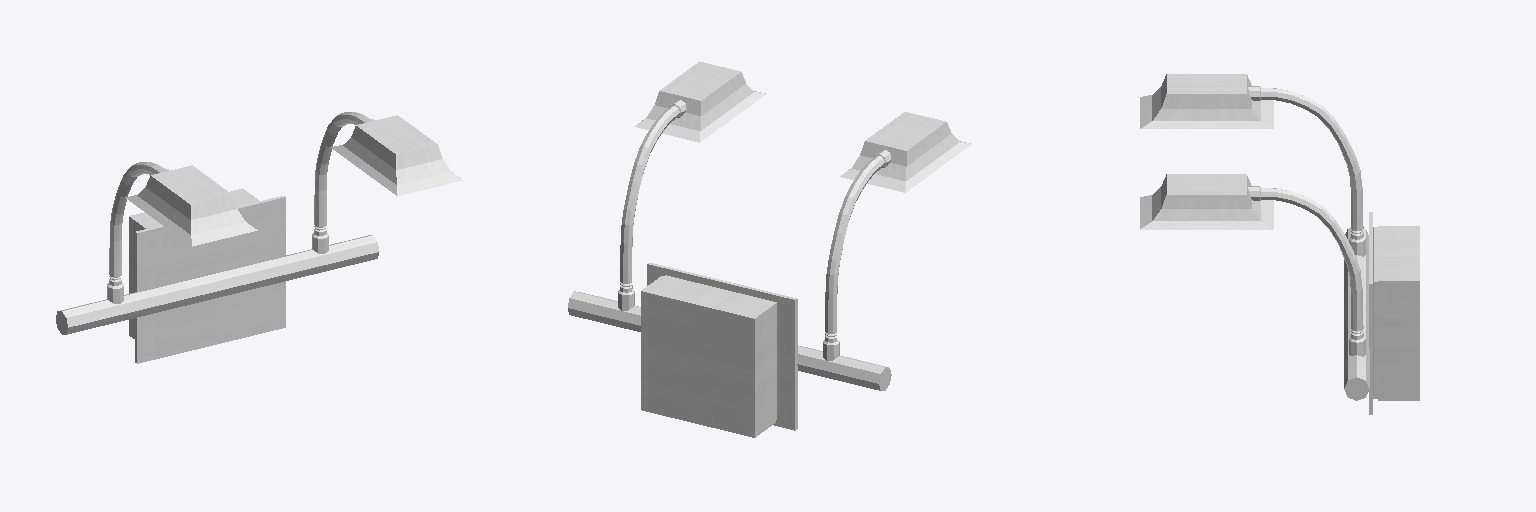
3 views of the same model, side by side, from view 1: azimuth 30°, elevation 25°; view 2: azimuth 150°, elevation 25°; view 3: azimuth 270°, elevation 25° (orthographic).
Size of the model in its own units: 0.41 by 0.3083 by 0.32.
Materials: 1 (1 with a texture image).